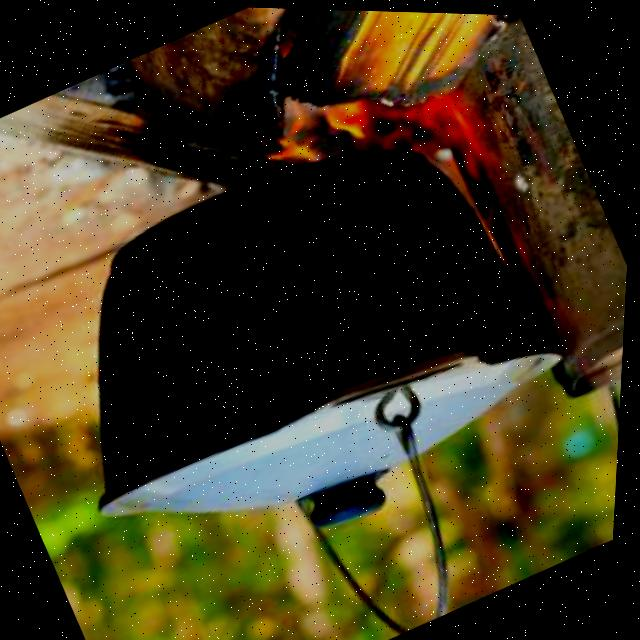Fire: (258, 27, 526, 249)
